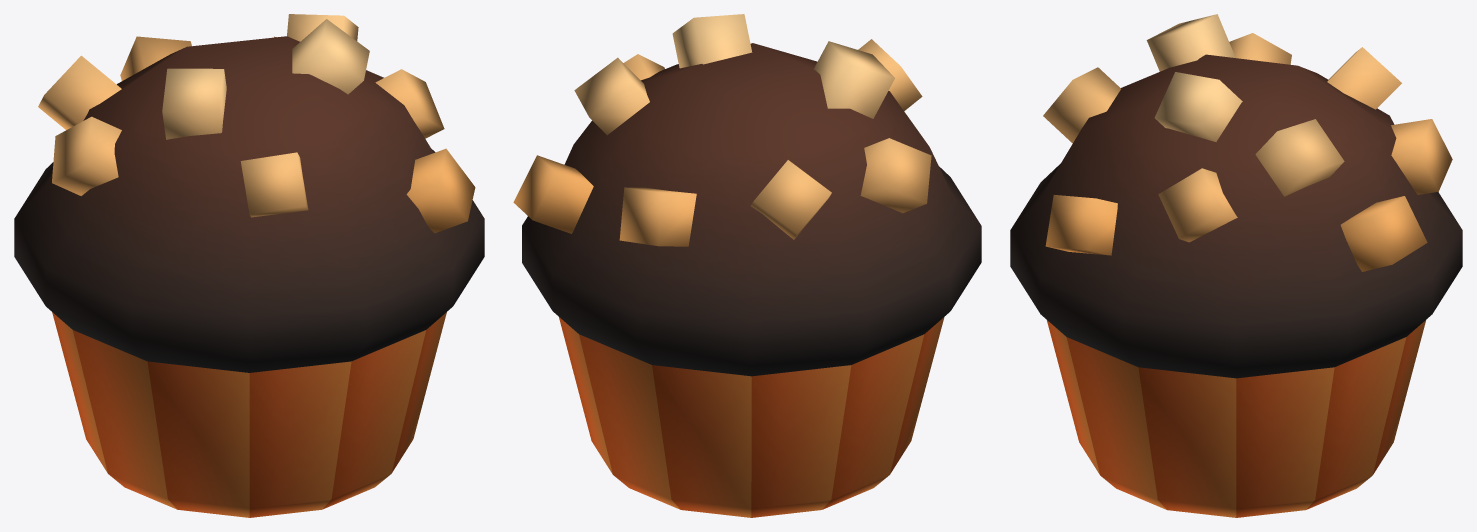
Rendered from m_Cupcake02.fbx.
3 views of the same model, side by side, from view 1: azimuth 30°, elevation 25°; view 2: azimuth 150°, elevation 25°; view 3: azimuth 270°, elevation 25° (orthographic). The views are drawn at different scales.
Visible parts, largest first — view 1: m_Cupcake02; view 2: m_Cupcake02; view 3: m_Cupcake02.
Part boxes in pixels (x1,y1,x2,y2): m_Cupcake02: (14,14,484,517); m_Cupcake02: (513,14,981,517); m_Cupcake02: (1010,14,1462,517).
Bounding box in the file's own units: 11.39 × 11.42 × 11.39.
